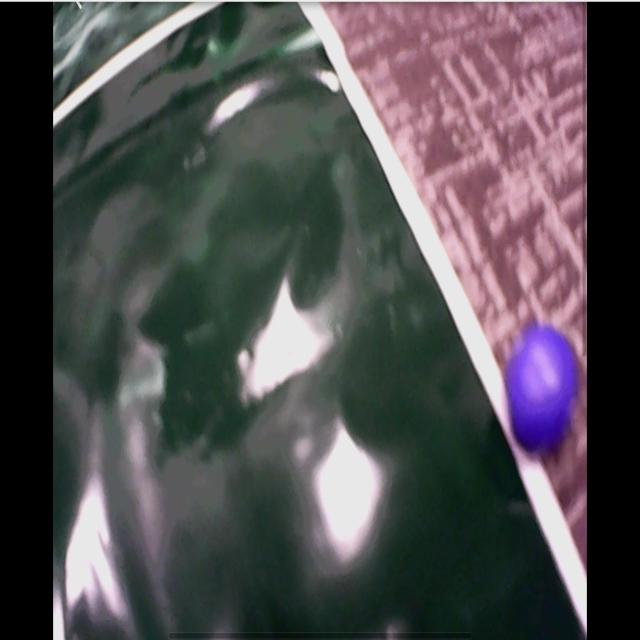ball: (507, 330, 577, 449)
